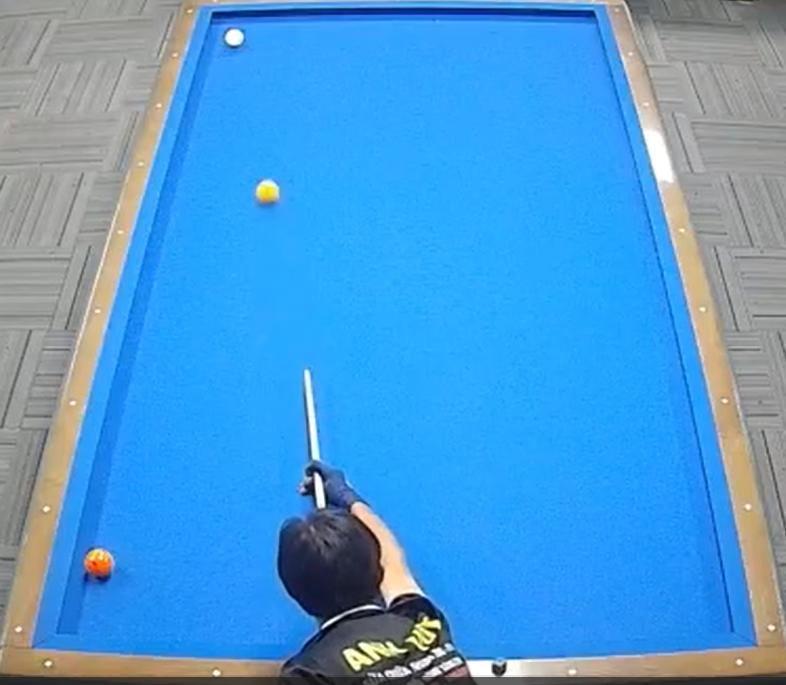orange ball: (82, 542, 117, 586)
white ball: (224, 26, 248, 53)
yellow ball: (253, 175, 282, 210)
